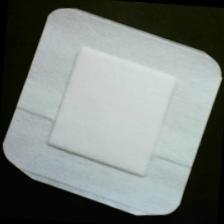Dressing: (1, 3, 224, 222)
